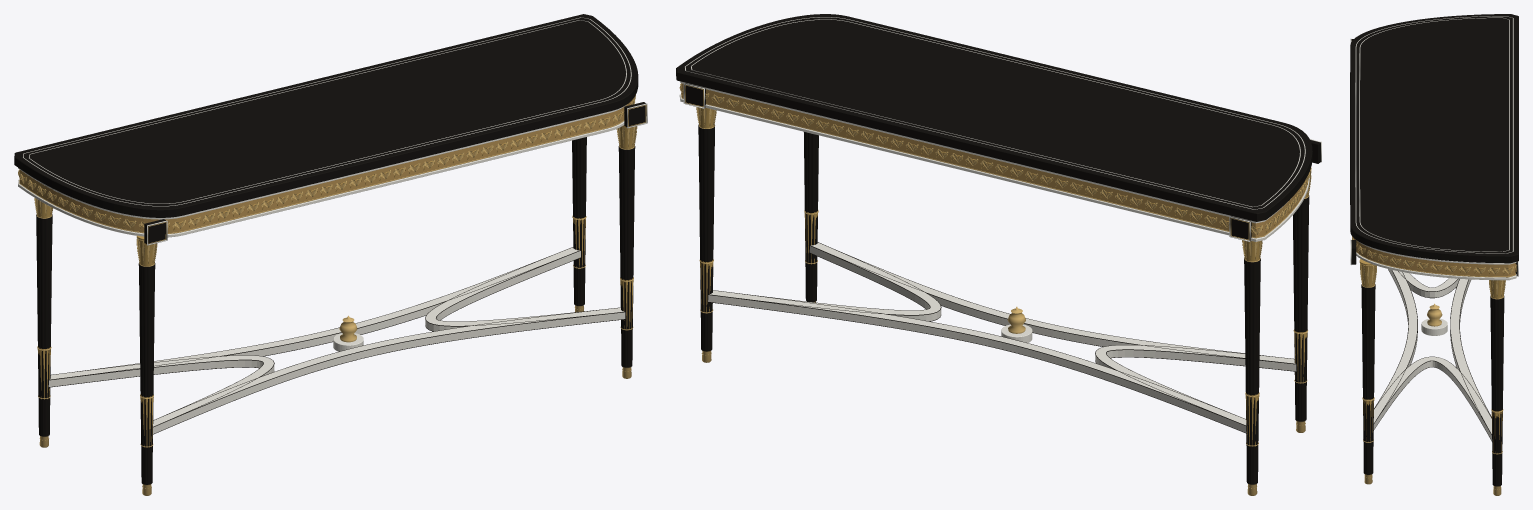
3 views of the same model, side by side, from view 1: azimuth 30°, elevation 25°; view 2: azimuth 150°, elevation 25°; view 3: azimuth 270°, elevation 25° (orthographic). The views are drawn at different scales.
Parts seen in each view (by area): view 1: Wellington curved-front console | consoles-15 web batch; view 2: Wellington curved-front console | consoles-15 web batch; view 3: Wellington curved-front console | consoles-15 web batch.
Part boxes in pixels (<box>): Wellington curved-front console | consoles-15 web batch: <box>14,14,647,495</box>; Wellington curved-front console | consoles-15 web batch: <box>676,14,1321,495</box>; Wellington curved-front console | consoles-15 web batch: <box>1350,14,1518,495</box>.
Size of the model in its own units: 1.7 by 0.8102 by 0.5008.
